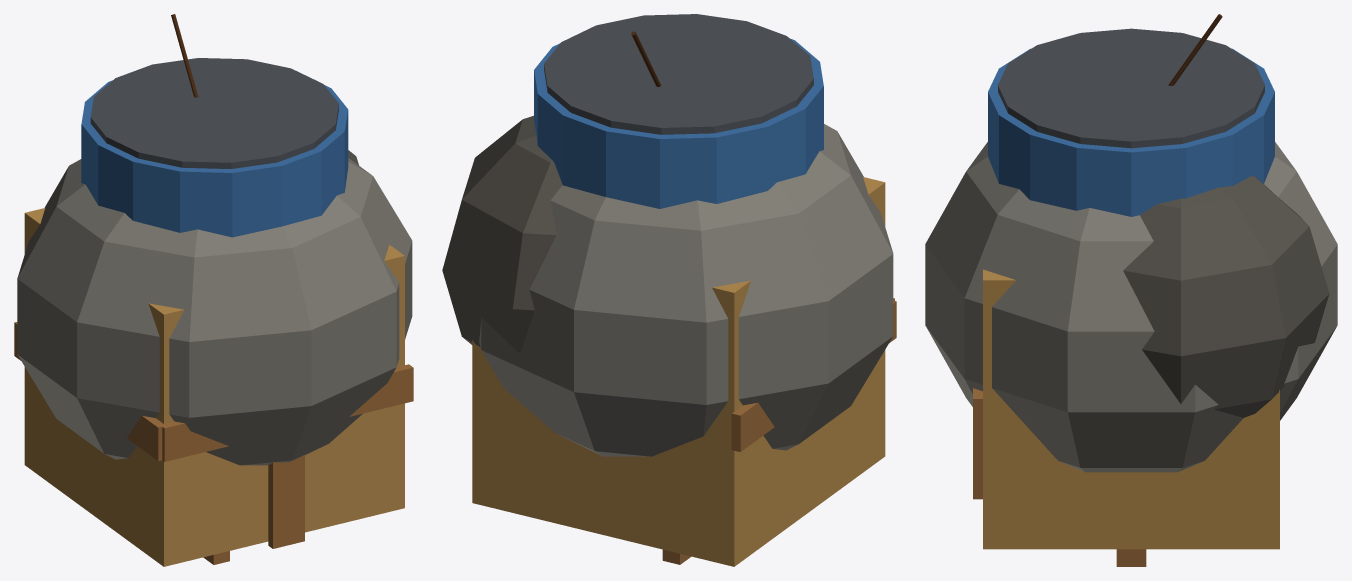
File: weapons.glb
3 views of the same model, side by side, from view 1: azimuth 30°, elevation 25°; view 2: azimuth 150°, elevation 25°; view 3: azimuth 270°, elevation 25° (orthographic). The views are drawn at different scales.
Visible parts, largest first — view 1: W_Boulder_Mesh, W_Crate_Mesh, W_Drum_Mesh; view 2: W_Boulder_Mesh, W_Drum_Mesh, W_Crate_Mesh; view 3: W_Boulder_Mesh, W_Drum_Mesh, W_Crate_Mesh, W_Gun_Mesh.
Part boxes in pixels (<box>): W_Boulder_Mesh: <box>17,150,412,465</box>; W_Crate_Mesh: <box>14,208,413,566</box>; W_Drum_Mesh: <box>81,58,348,237</box>; W_Boulder_Mesh: <box>442,115,893,456</box>; W_Drum_Mesh: <box>534,14,823,208</box>; W_Crate_Mesh: <box>472,177,896,566</box>; W_Boulder_Mesh: <box>925,142,1337,472</box>; W_Drum_Mesh: <box>988,28,1274,216</box>; W_Crate_Mesh: <box>973,269,1279,549</box>; W_Gun_Mesh: <box>1116,549,1146,566</box>.
Bounding box in the file's own units: 0.8672 × 1.22 × 0.8336.
